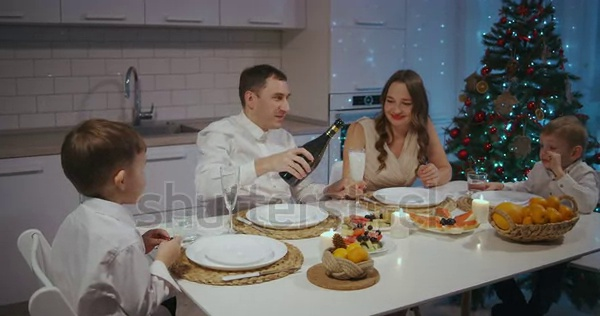No Mask: (235, 61, 294, 134), (534, 109, 595, 176), (383, 69, 425, 133)
